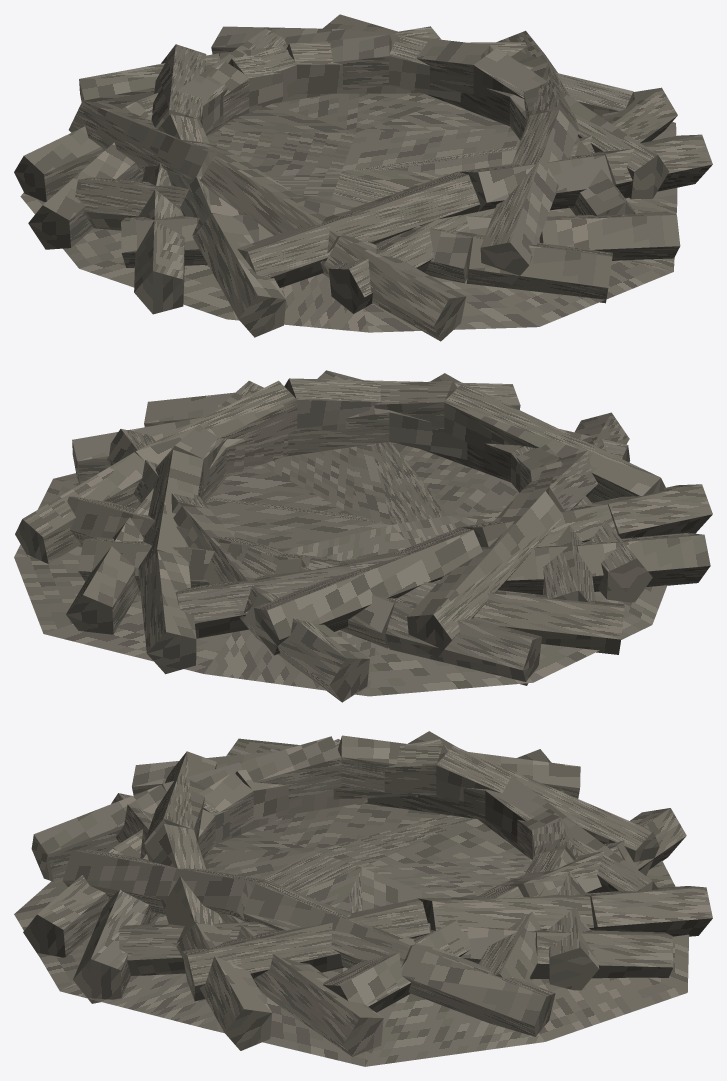
The model's file is f_fungal_mass.glb.
The picture shows the model from 3 angles, top to bottom: view 1: azimuth 30°, elevation 25°; view 2: azimuth 150°, elevation 25°; view 3: azimuth 270°, elevation 25°; orthographic projection.
Parts seen in each view (by area): view 1: block_intertwined-fungal-strand-3 (×13), block_intertwined-fungal-strand-1 (×13), block_mycelial-mat, block_intertwined-fungal-strand-2 (×11); view 2: block_intertwined-fungal-strand-3 (×13), block_intertwined-fungal-strand-1 (×11), block_mycelial-mat, block_intertwined-fungal-strand-2 (×13); view 3: block_intertwined-fungal-strand-3 (×13), block_intertwined-fungal-strand-1 (×11), block_mycelial-mat, block_intertwined-fungal-strand-2 (×11).
Boxes of the visible parts, x1,y1,x2,y2 form: block_intertwined-fungal-strand-3 (×13): [68, 26, 669, 313]; block_intertwined-fungal-strand-1 (×13): [14, 14, 712, 341]; block_mycelial-mat: [20, 93, 677, 332]; block_intertwined-fungal-strand-2 (×11): [137, 29, 612, 283]; block_intertwined-fungal-strand-3 (×13): [67, 378, 666, 657]; block_intertwined-fungal-strand-1 (×11): [15, 390, 712, 702]; block_mycelial-mat: [14, 442, 667, 696]; block_intertwined-fungal-strand-2 (×13): [116, 380, 617, 648]; block_intertwined-fungal-strand-3 (×13): [62, 735, 659, 1012]; block_intertwined-fungal-strand-1 (×11): [23, 738, 712, 1056]; block_mycelial-mat: [14, 803, 689, 1066]; block_intertwined-fungal-strand-2 (×11): [105, 736, 622, 968].
Bounding box in the file's own units: 0.9259 × 0.1531 × 0.9202.
1 material, 1 textured.
